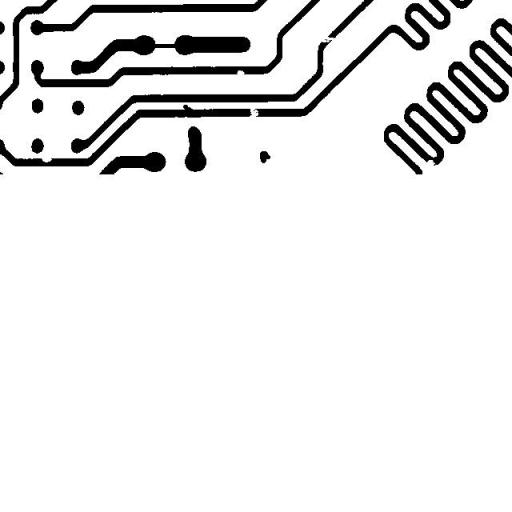copper: (252, 144, 278, 170)
mousebite: (417, 152, 442, 173), (34, 150, 59, 170), (229, 62, 252, 82)
open: (242, 98, 266, 125), (314, 28, 342, 50)
short: (138, 36, 188, 56)
spur: (175, 97, 201, 120)
